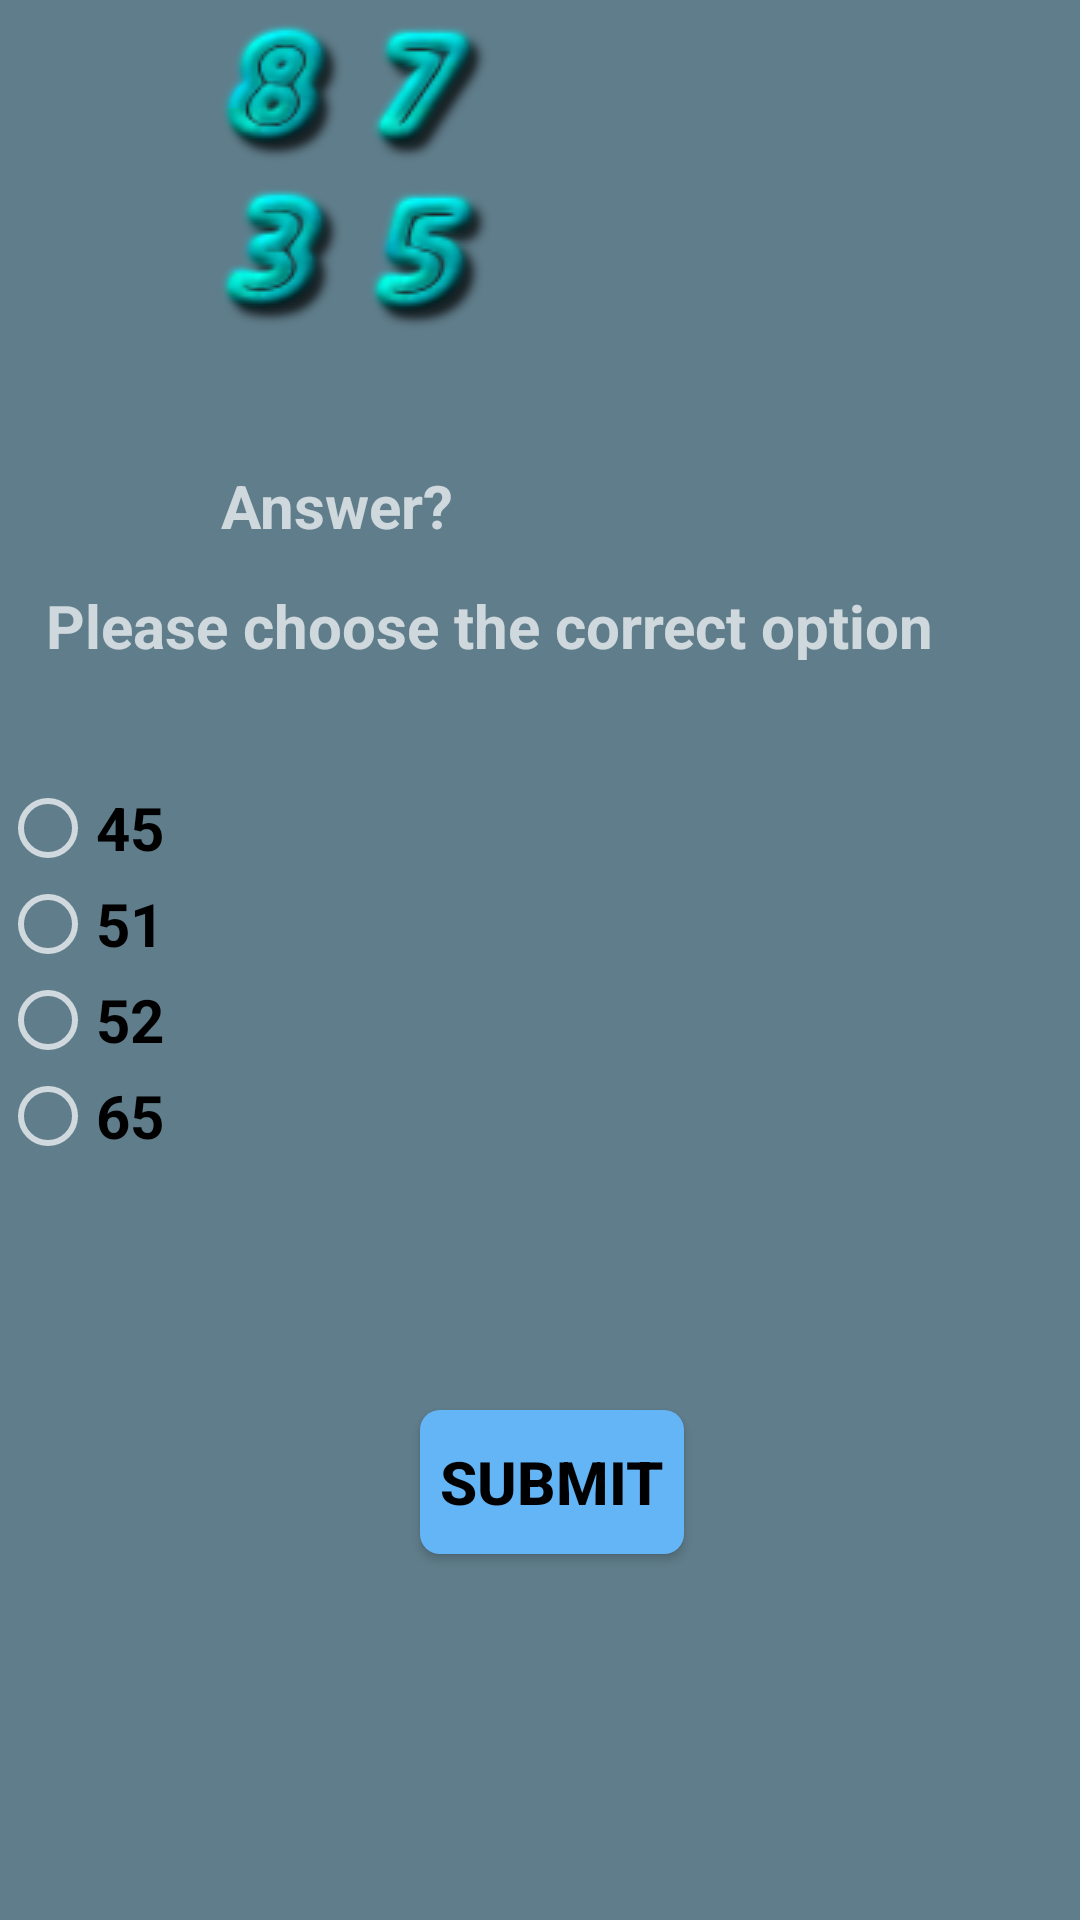

Screen size 1080 x 1920. Icon name, then its box in pixels as (x1, y1, x2, y2):
eight: (225, 27, 337, 154)
seven: (376, 29, 482, 154)
